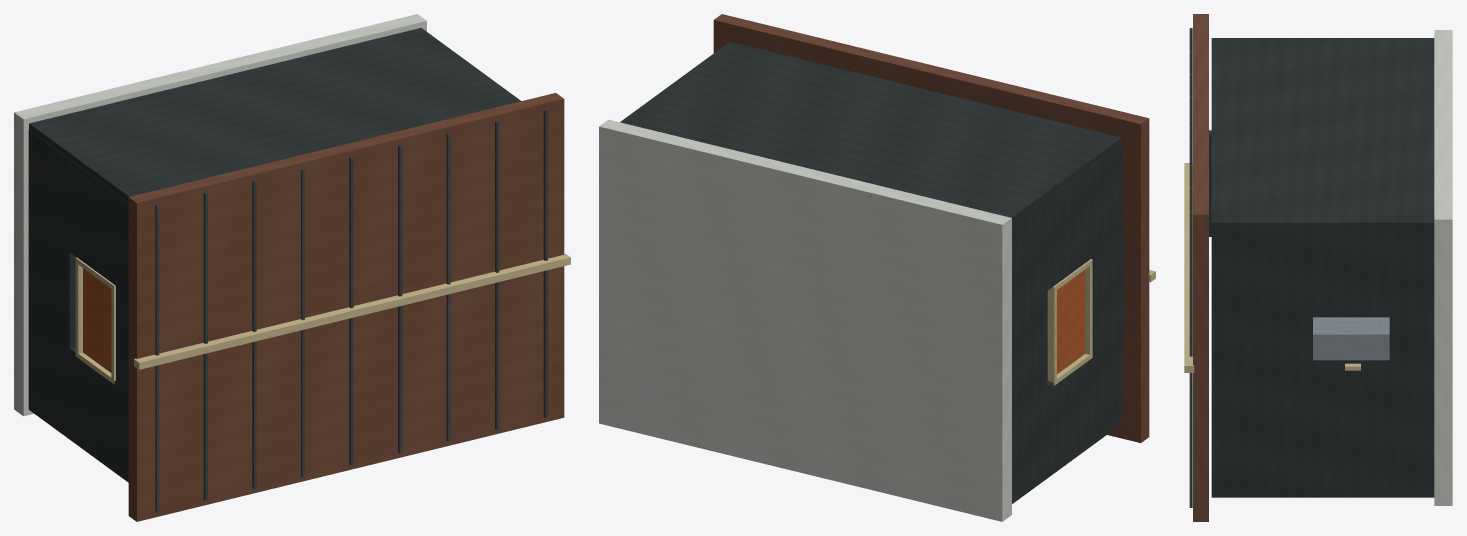
The model's file is RADIO_HUT_local.glb.
The picture shows the model from 3 angles, left to right: view 1: azimuth 30°, elevation 25°; view 2: azimuth 150°, elevation 25°; view 3: azimuth 270°, elevation 25°; orthographic projection. The views are drawn at different scales.
Parts seen in each view (by area): view 1: HUT_Roof_MainCladding, HUT_Rear_InsulatedWall, HUT_LeftWall_WindowCutout_RealOpening, HUT_Roof_FoldedSeamRibs, HUT_Raised_Concrete_FloorSlab, HUT_Roof_RidgeFlashing, HUT_LeftWindow_Glazing, HUT_LeftWindow_Frame, HUT_FrontWall_Doorway_ActualClearOpening; view 2: HUT_Raised_Concrete_FloorSlab, HUT_Rear_InsulatedWall, HUT_LeftWall_WindowCutout_RealOpening, HUT_Roof_MainCladding, HUT_LeftWindow_Glazing, HUT_LeftWindow_Frame, HUT_FrontWall_Doorway_ActualClearOpening; view 3: HUT_Right_InsulatedWall, HUT_Rear_InsulatedWall, HUT_Raised_Concrete_FloorSlab, HUT_Roof_MainCladding, HUT_Wall_Exterior_ElectricalCabinet, HUT_Roof_FoldedSeamRibs, HUT_Roof_RidgeFlashing, HUT_LeftWall_WindowCutout_RealOpening.
Boxes of the visible parts, <box> form: HUT_Roof_MainCladding: <box>128,93,564,521</box>; HUT_Rear_InsulatedWall: <box>29,28,521,202</box>; HUT_LeftWall_WindowCutout_RealOpening: <box>28,130,128,478</box>; HUT_Roof_FoldedSeamRibs: <box>155,109,547,512</box>; HUT_Raised_Concrete_FloorSlab: <box>14,14,426,416</box>; HUT_Roof_RidgeFlashing: <box>134,253,570,369</box>; HUT_LeftWindow_Glazing: <box>83,268,111,372</box>; HUT_LeftWindow_Frame: <box>75,257,115,384</box>; HUT_FrontWall_Doorway_ActualClearOpening: <box>28,399,128,482</box>; HUT_Raised_Concrete_FloorSlab: <box>599,119,1011,521</box>; HUT_Rear_InsulatedWall: <box>620,42,1121,223</box>; HUT_LeftWall_WindowCutout_RealOpening: <box>1012,144,1123,499</box>; HUT_Roof_MainCladding: <box>713,14,1149,442</box>; HUT_LeftWindow_Glazing: <box>1057,269,1085,374</box>; HUT_LeftWindow_Frame: <box>1047,259,1092,385</box>; HUT_FrontWall_Doorway_ActualClearOpening: <box>1012,413,1122,503</box>; HUT_Right_InsulatedWall: <box>1211,222,1434,497</box>; HUT_Rear_InsulatedWall: <box>1211,38,1434,222</box>; HUT_Raised_Concrete_FloorSlab: <box>1434,30,1452,505</box>; HUT_Roof_MainCladding: <box>1193,14,1208,521</box>; HUT_Wall_Exterior_ElectricalCabinet: <box>1313,317,1389,360</box>; HUT_Roof_FoldedSeamRibs: <box>1189,28,1192,507</box>; HUT_Roof_RidgeFlashing: <box>1184,163,1194,372</box>; HUT_LeftWall_WindowCutout_RealOpening: <box>1209,130,1211,236</box>.
Bounding box in the file's own units: 6.01 × 4.08 × 3.23.
1 material, 1 textured.
